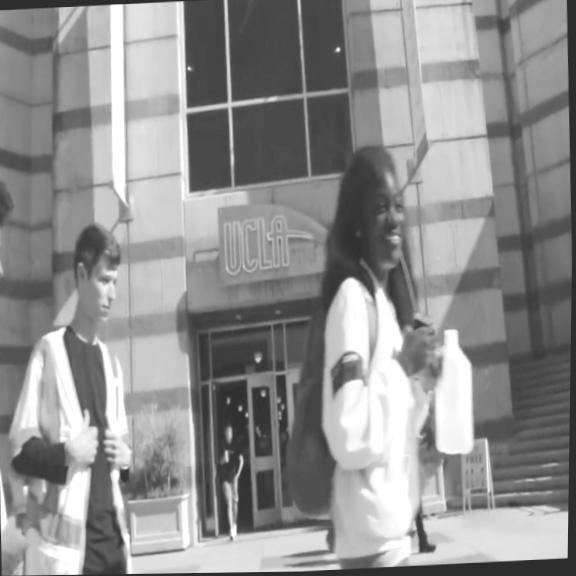safety_vest: (1, 319, 140, 576), (0, 348, 18, 576)
